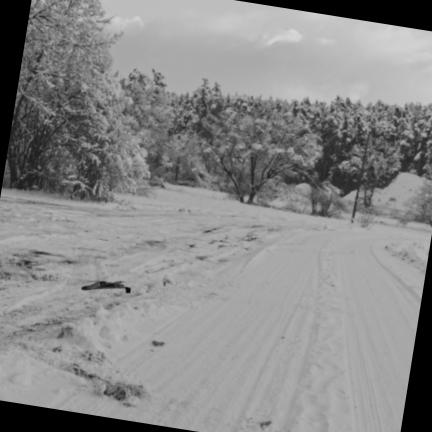Shahed: (82, 281, 130, 293)
